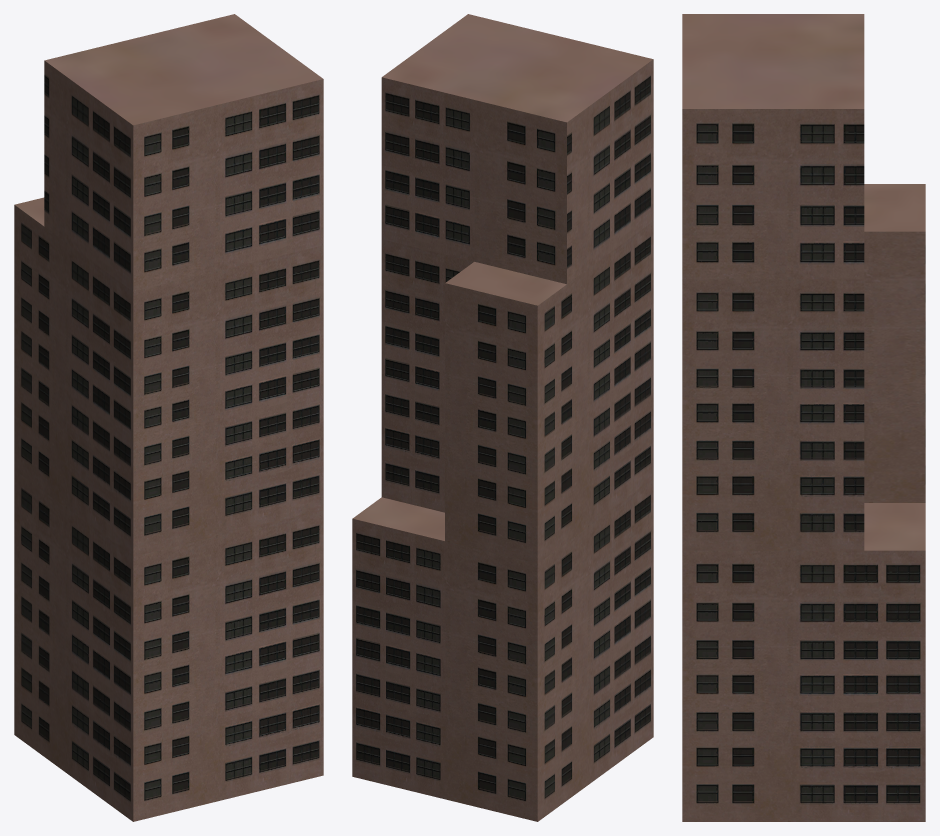
The model's file is Background C.fbx.
The picture shows the model from 3 angles, left to right: view 1: azimuth 30°, elevation 25°; view 2: azimuth 150°, elevation 25°; view 3: azimuth 270°, elevation 25°; orthographic projection. The views are drawn at different scales.
Visible parts, largest first — view 1: Background C; view 2: Background C; view 3: Background C.
Part boxes in pixels (box(x1,y1,x2,y2)): Background C: box(14, 14, 323, 821); Background C: box(352, 14, 653, 821); Background C: box(682, 14, 925, 821).
Size of the model in its own units: 8.09 by 28.28 by 8.75.
1 material, 1 textured.
